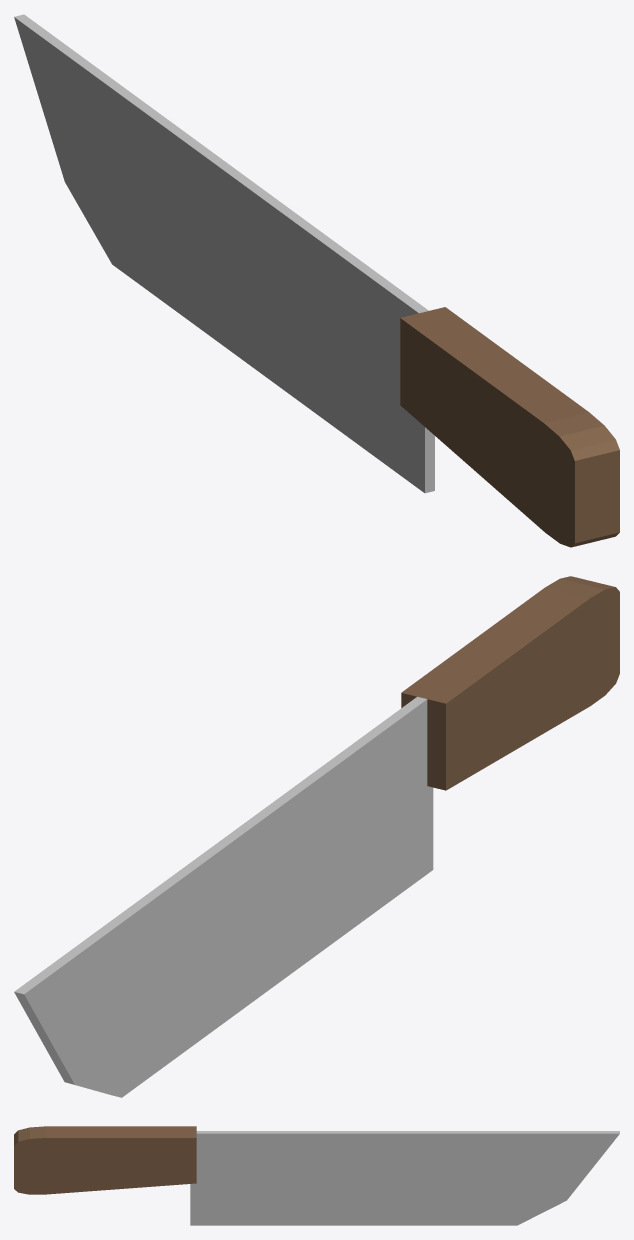
File: Knife.fbx
3 renders of one model, top to bottom at view 1: azimuth 30°, elevation 25°; view 2: azimuth 150°, elevation 25°; view 3: azimuth 270°, elevation 25°, orthographic. The views are drawn at different scales.
Visible parts, largest first — view 1: Cube.010, Cube.009; view 2: Cube.010, Cube.009; view 3: Cube.010, Cube.009.
Boxes of the visible parts, bbox=[...] form: Cube.010: bbox=[14, 14, 434, 493]; Cube.009: bbox=[400, 307, 619, 547]; Cube.010: bbox=[14, 696, 433, 1097]; Cube.009: bbox=[401, 576, 619, 790]; Cube.010: bbox=[190, 1131, 619, 1225]; Cube.009: bbox=[14, 1126, 196, 1194].
Bounding box in the file's own units: 12.69 × 47.22 × 282.
